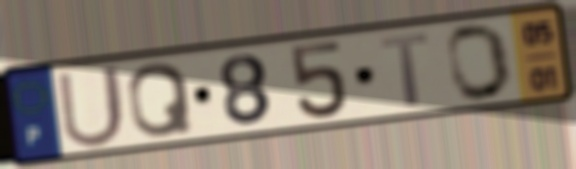5: (287, 37, 351, 121)
8: (217, 53, 275, 128)
O: (444, 21, 516, 104)
Q: (125, 60, 197, 141)
T: (377, 30, 433, 110)
U: (53, 61, 129, 151)
